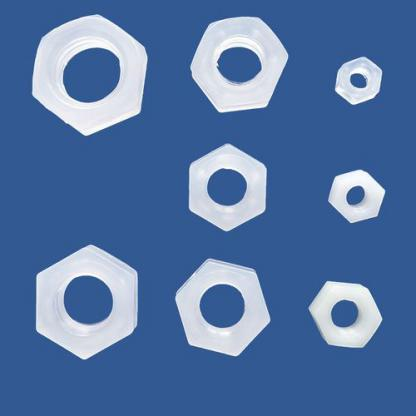FOD: (29, 11, 150, 139), (33, 243, 143, 364), (172, 255, 270, 360), (188, 14, 290, 113), (184, 141, 270, 237), (306, 276, 385, 354), (326, 165, 386, 225), (333, 55, 386, 106)
